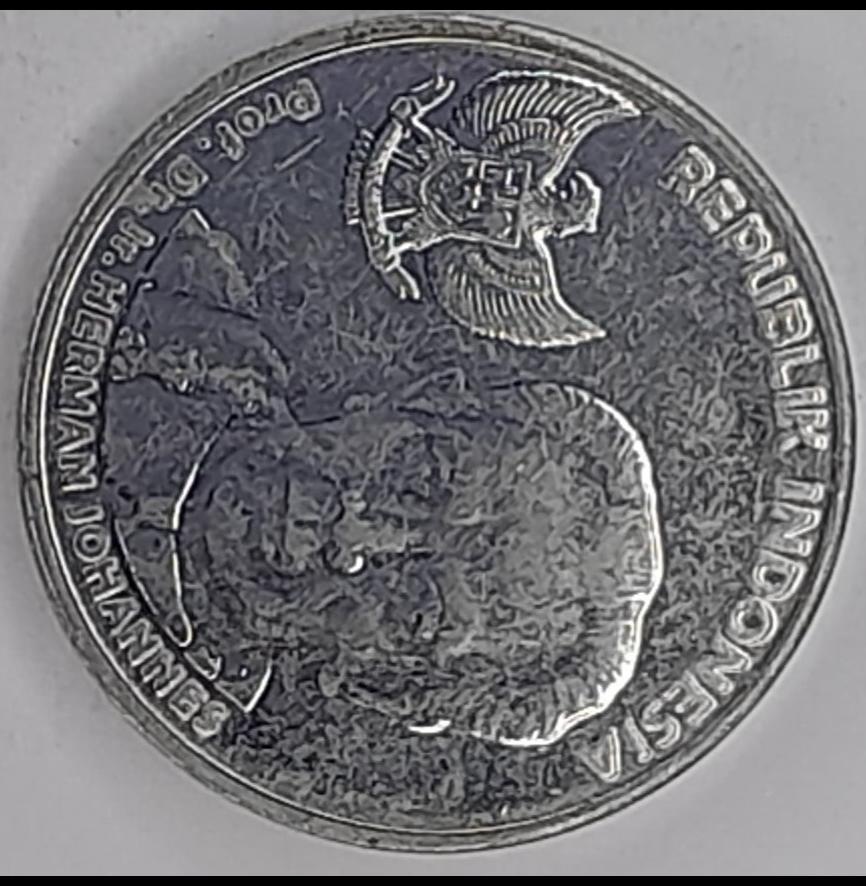coin_100_e2016: (10, 11, 861, 856)
